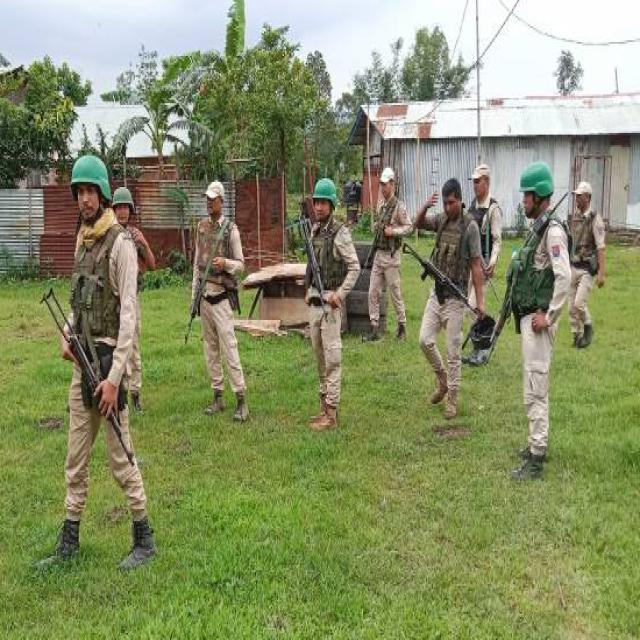soldier: (31, 154, 154, 569), (470, 163, 571, 482), (403, 178, 497, 420), (185, 180, 248, 420), (304, 178, 360, 429), (361, 168, 411, 342), (112, 186, 155, 337), (569, 181, 606, 346), (467, 164, 502, 283), (128, 345, 142, 412)
